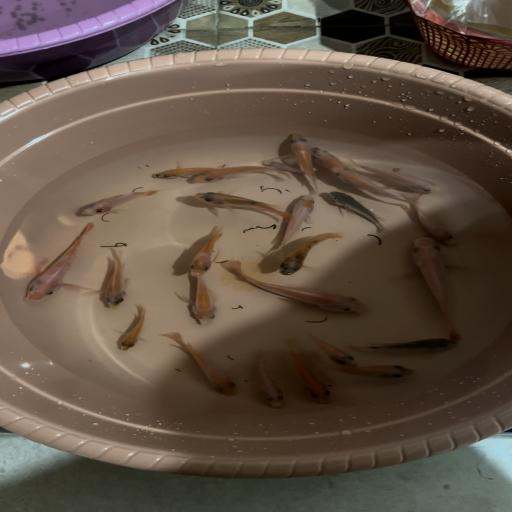nila: (218, 260, 370, 315), (18, 222, 100, 310), (400, 238, 470, 338), (156, 332, 239, 396), (67, 184, 166, 221), (268, 192, 320, 258), (92, 243, 141, 312), (400, 197, 464, 247), (280, 348, 337, 404), (190, 190, 291, 221), (276, 232, 343, 276), (183, 161, 288, 189), (360, 159, 441, 195), (355, 332, 461, 358), (178, 225, 230, 277), (327, 191, 390, 233), (330, 168, 411, 200), (286, 131, 324, 191), (178, 278, 220, 330), (247, 358, 288, 410), (302, 332, 363, 366), (321, 360, 423, 380), (111, 307, 154, 351), (150, 160, 214, 180), (310, 146, 355, 172), (257, 156, 303, 176)
